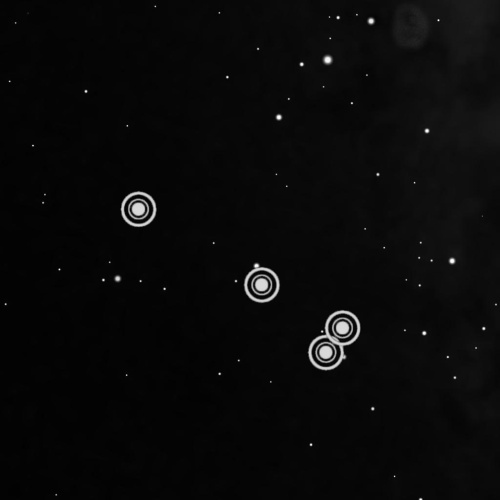sagitta: (112, 181, 368, 380)
